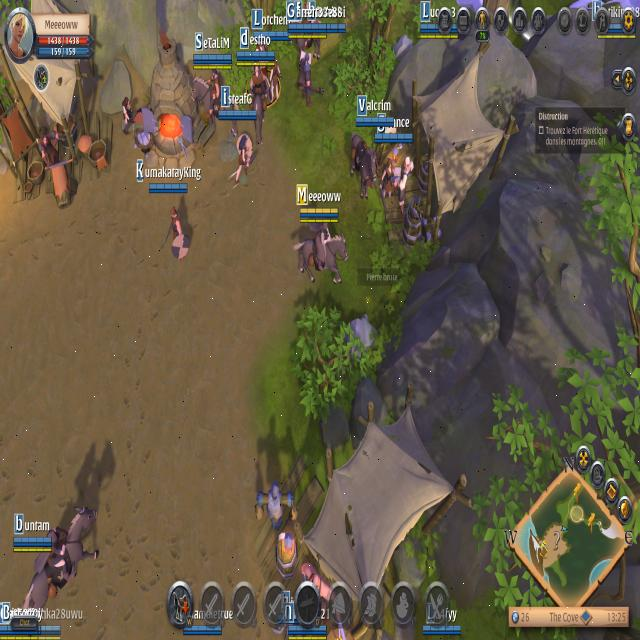stone: (344, 313, 381, 371)
